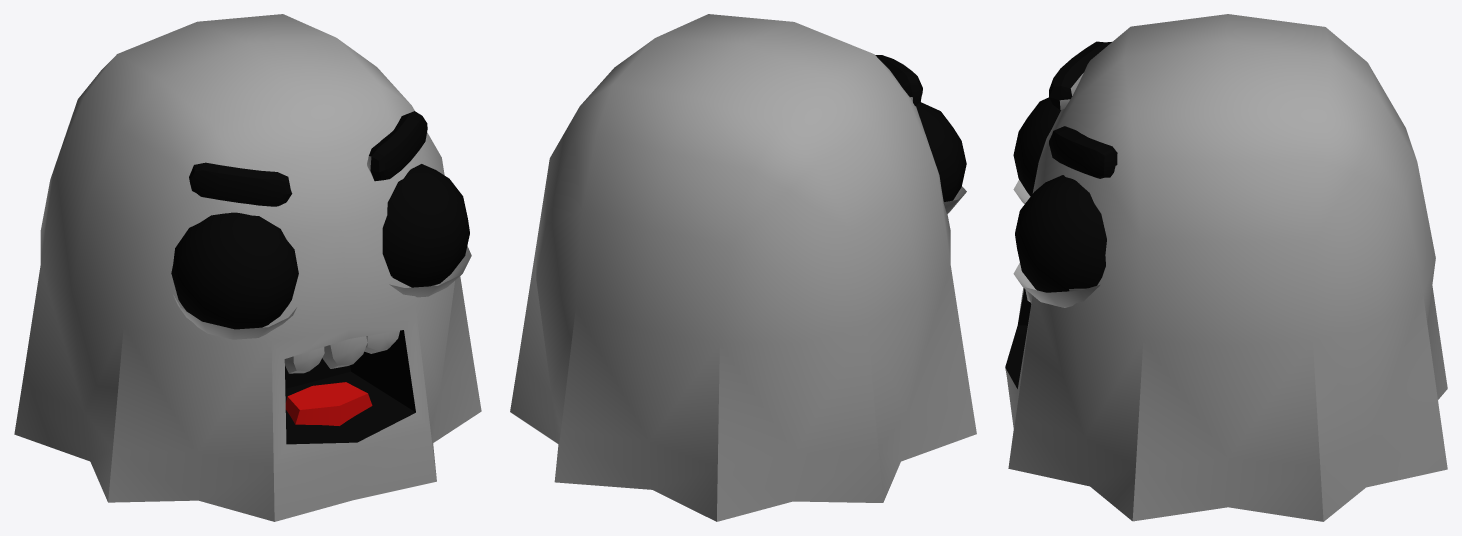
File: Ghost.obj
The picture shows the model from 3 angles, left to right: view 1: azimuth 30°, elevation 25°; view 2: azimuth 150°, elevation 25°; view 3: azimuth 270°, elevation 25°; orthographic projection.
Visible parts, largest first — view 1: Ghost_Sphere.030; view 2: Ghost_Sphere.030; view 3: Ghost_Sphere.030.
Part boxes in pixels (x1,y1,x2,y2): Ghost_Sphere.030: [14, 14, 481, 521]; Ghost_Sphere.030: [510, 14, 976, 521]; Ghost_Sphere.030: [1005, 14, 1447, 521].
Size of the model in its own units: 1.45 by 1.41 by 1.46.
